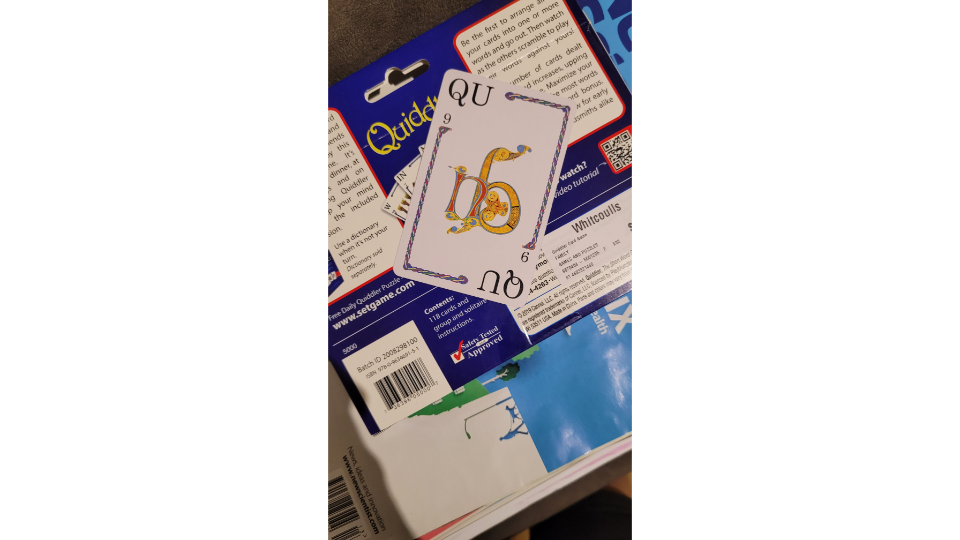QU: (390, 66, 579, 308)
